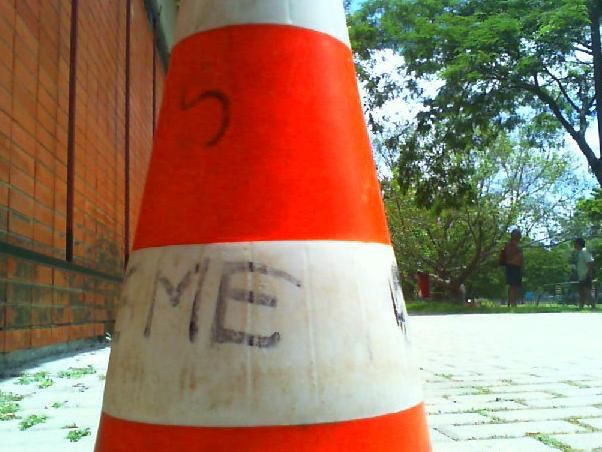0 cone: (81, 0, 441, 452)
